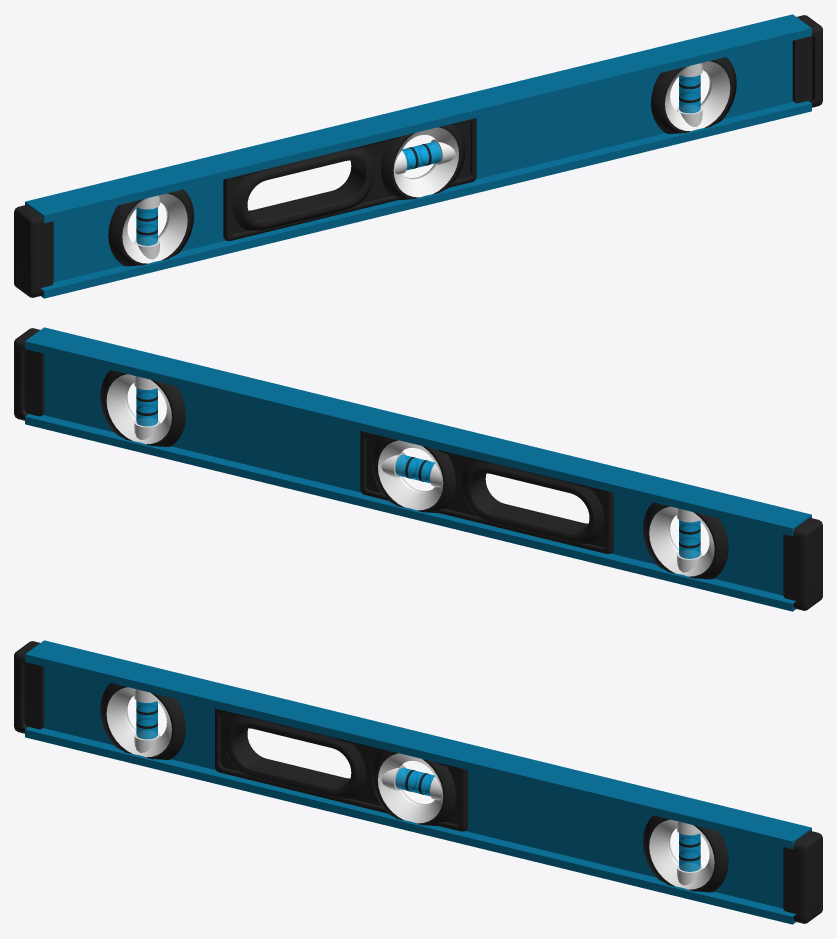
The model's file is MagneticLevel.fbx.
3 views of the same model, one above another, from view 1: azimuth 30°, elevation 25°; view 2: azimuth 150°, elevation 25°; view 3: azimuth 330°, elevation 25° (orthographic).
Parts seen in each view (by area): view 1: level; view 2: level; view 3: level.
Boxes of the visible parts, left/top/right/bottom form: level: left=14, top=14, right=822, bottom=298; level: left=14, top=327, right=822, bottom=611; level: left=14, top=640, right=822, bottom=924.
Bounding box in the file's own units: 60 × 6 × 2.5.
